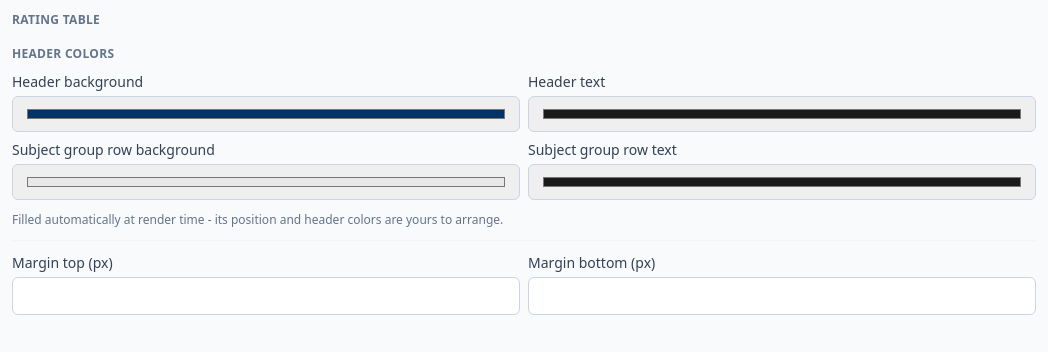
InspectorPanel table header colors › a table block shows the template default and can override then reset it
Expected: the colour field labelled "Subject group row background" holds "#e8e8e8", [12,164,520,200]
Expected: the text "Use template default" is not shown
Type "#8b0000" into the colour field labelled "Header background". click: (266, 114)
box: [12,96,520,132]
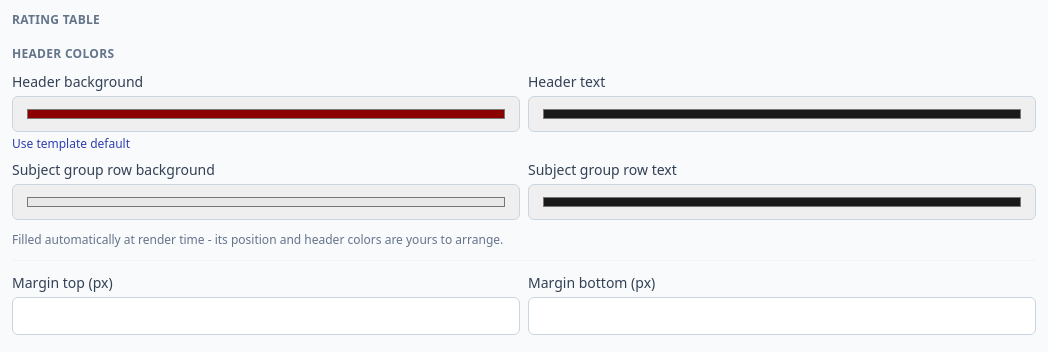
Click the button "Use template default". click: (71, 144)
box: [12,136,130,152]
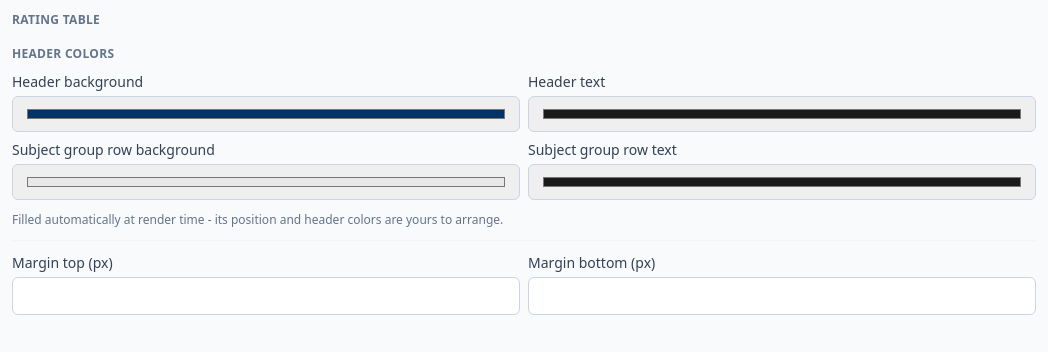
Result: the colour field labelled "Header background" holds "#003366" at [12,96,520,132]
